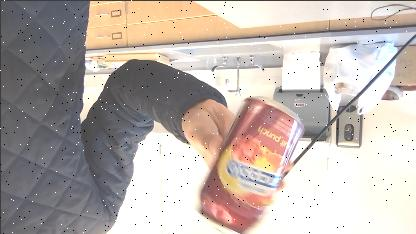Can: (206, 92, 298, 234)
